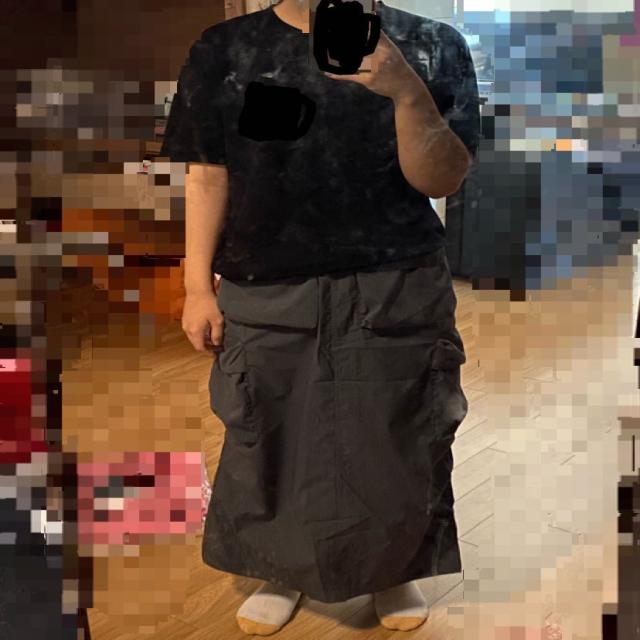shortsleeve: (159, 0, 483, 269)
skirt: (197, 247, 469, 598)
